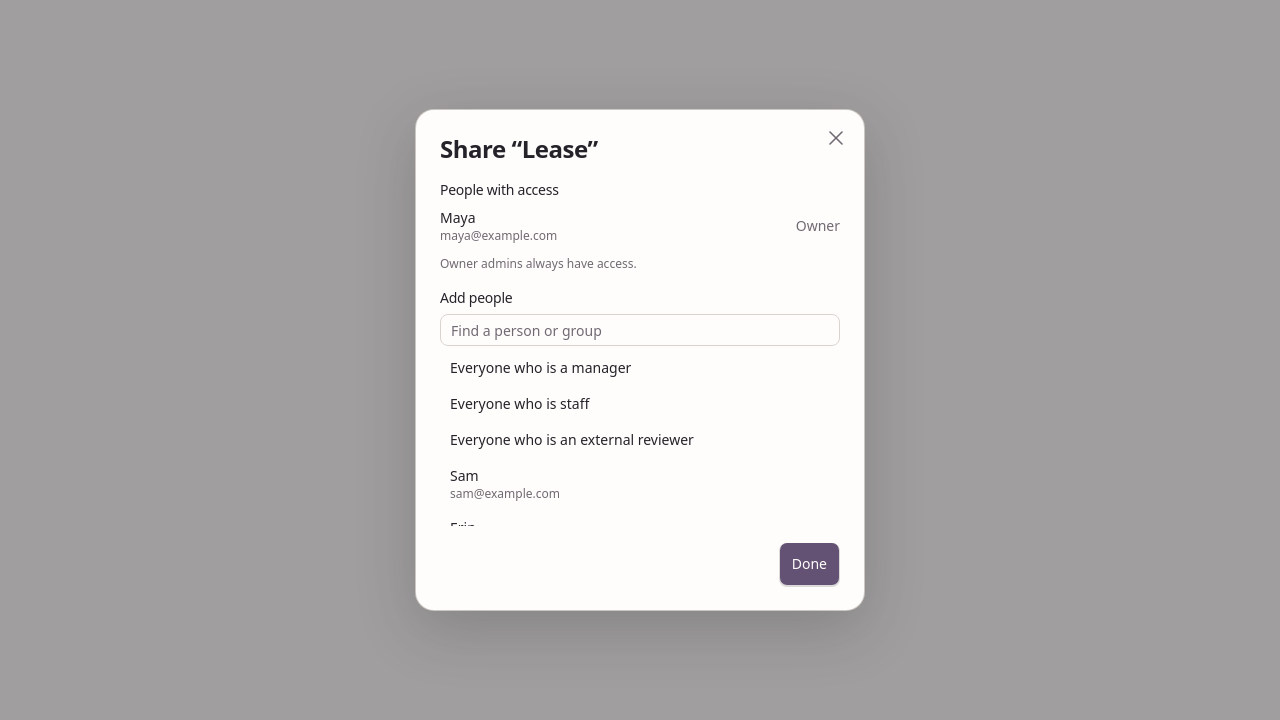
Test case: ShareDialog › shares with the person who is picked, as a viewer
The width and height of the screenshot is (1280, 720).
Click the button "Sam sam@example.com": (505, 494) [440,458,840,510]
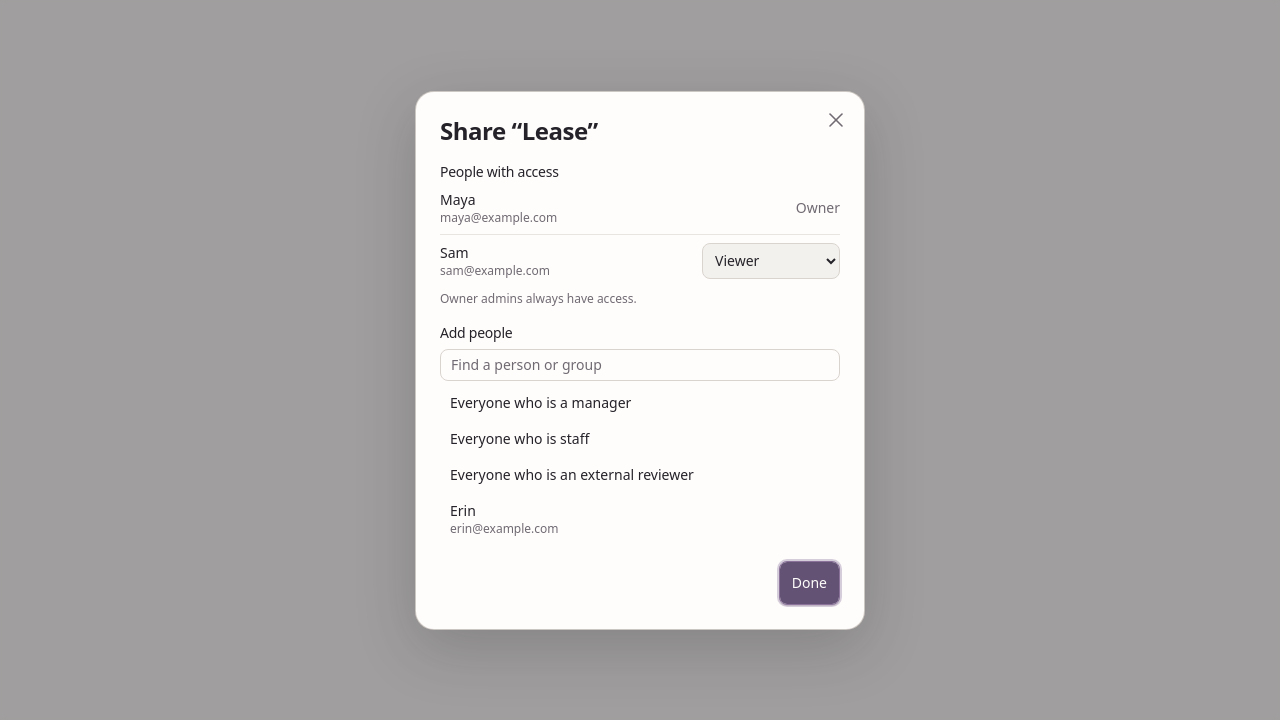
expect the dropdown named "Access for Sam" shows "Viewer": met, box [702,242,840,278]
